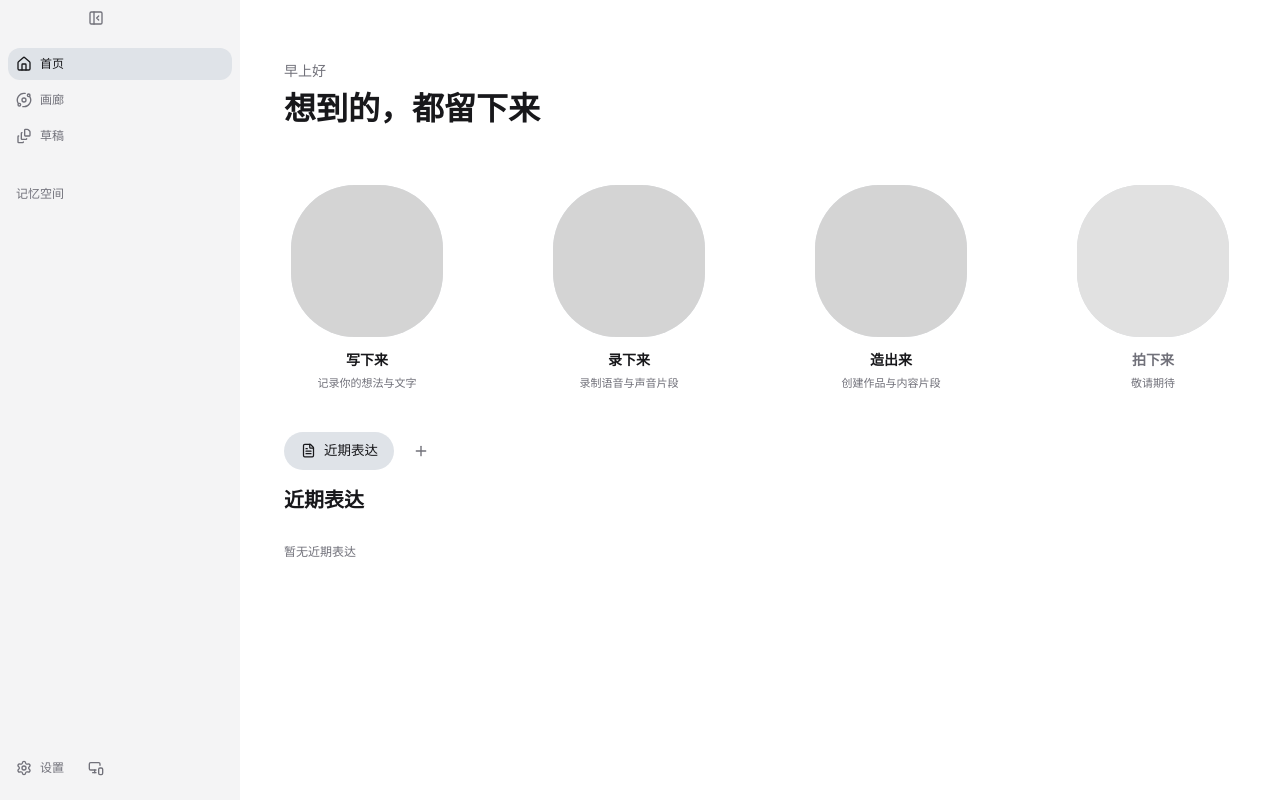
Test: App › opens Home 录下来 directly in the system Draft default Memory recording flow
Click the button "录下来 录制语音与声音片段" at [629, 288], box [542,185,716,392]
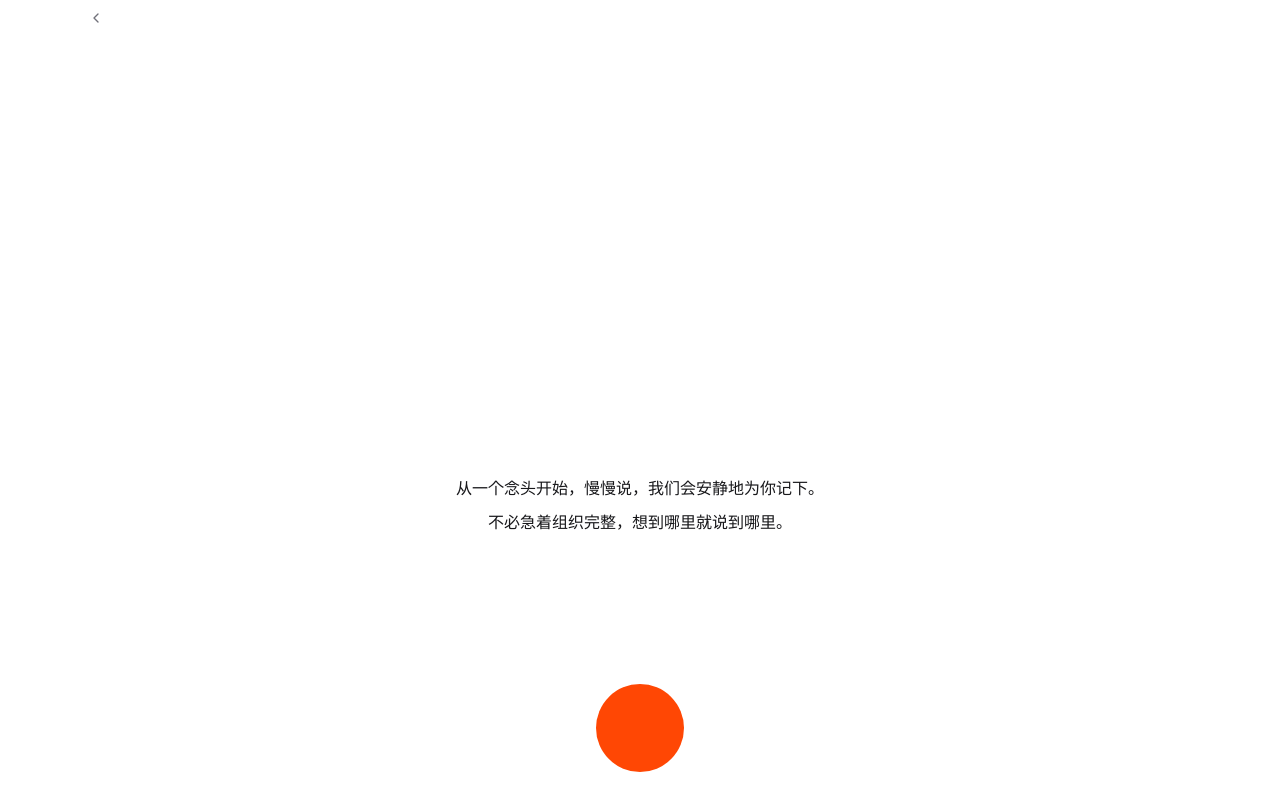
Result: the dialog named "录音" is shown
